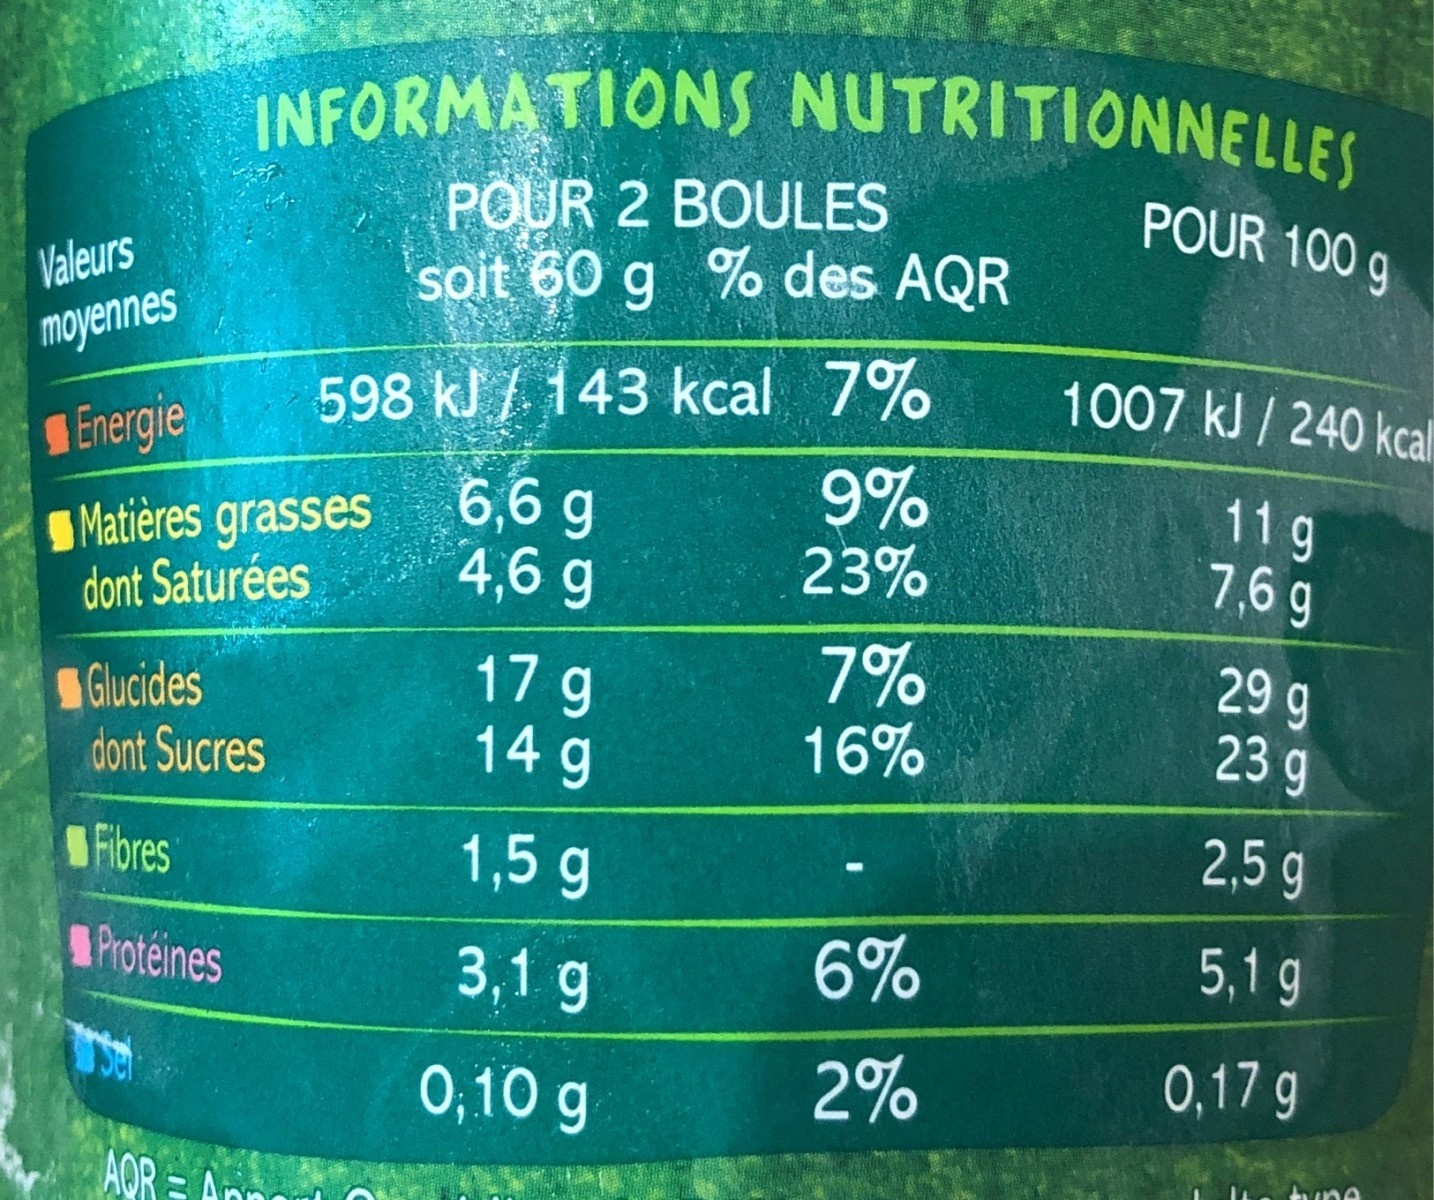column: (32, 361, 414, 1146), (1065, 361, 1434, 1149), (428, 361, 765, 1148), (798, 348, 936, 1140)
table: (36, 29, 1434, 1150)
